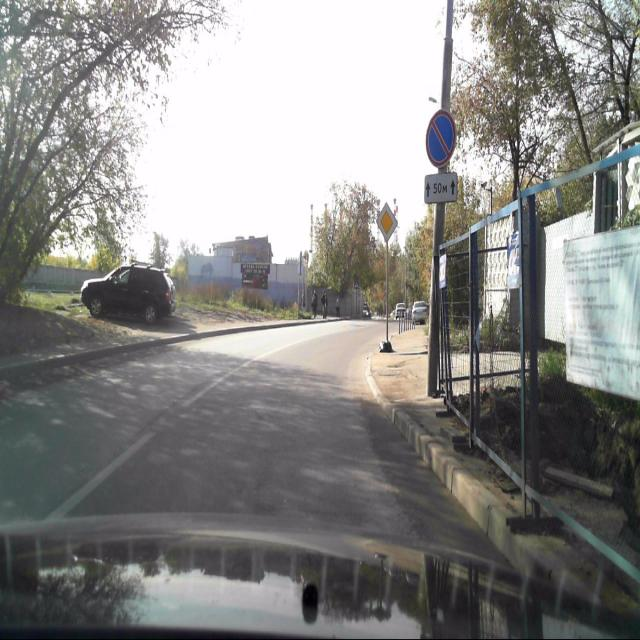road sign: (424, 172, 458, 205), (376, 201, 398, 245)
